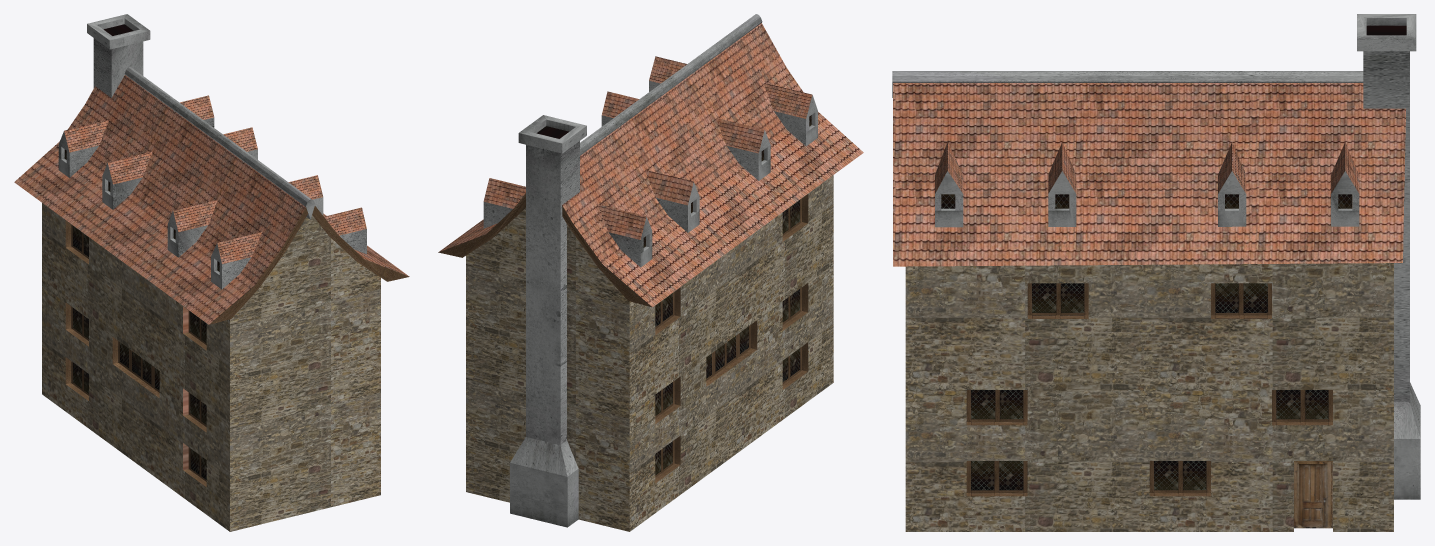
Rendered from BuildingA.fbx.
3 views of the same model, side by side, from view 1: azimuth 30°, elevation 25°; view 2: azimuth 150°, elevation 25°; view 3: azimuth 270°, elevation 25° (orthographic). The views are drawn at different scales.
Parts seen in each view (by area): view 1: BuildingA; view 2: BuildingA; view 3: BuildingA.
Part boxes in pixels (box(x1,y1,x2,y2)): BuildingA: box(14, 14, 409, 531); BuildingA: box(438, 14, 863, 531); BuildingA: box(892, 14, 1420, 531).
Bounding box in the file's own units: 708 × 1191 × 1250.
